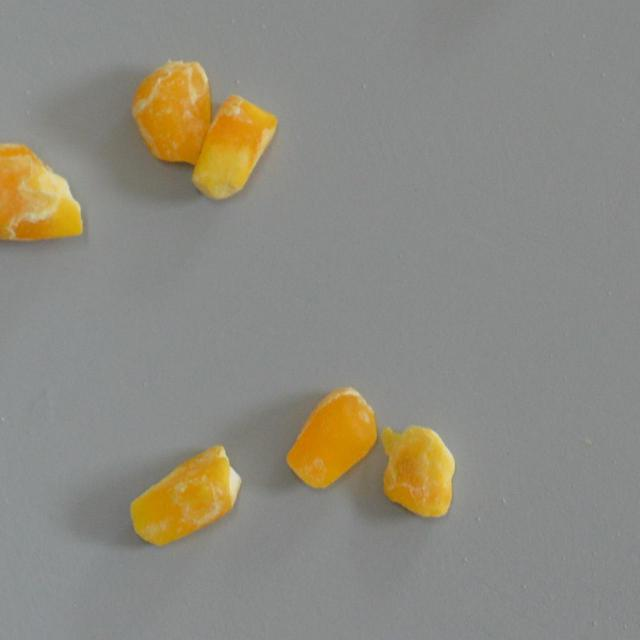dañado: (124, 440, 246, 551), (281, 382, 381, 494), (190, 91, 279, 206), (128, 52, 214, 166), (0, 136, 89, 244), (374, 419, 458, 523)
